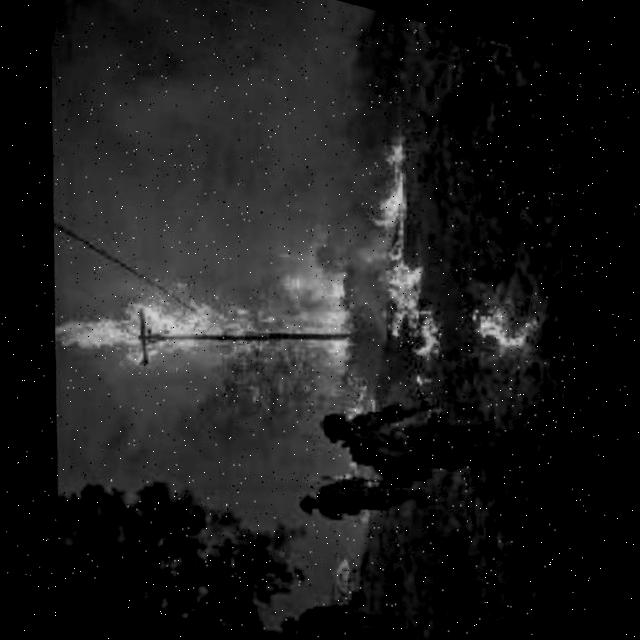fire: (3, 50, 489, 482), (454, 283, 549, 377)
